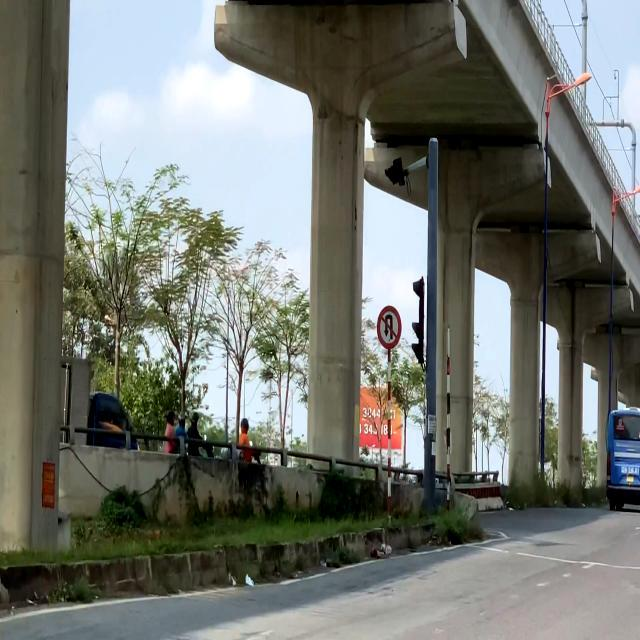Cam quay dau xe: (376, 304, 403, 352)
